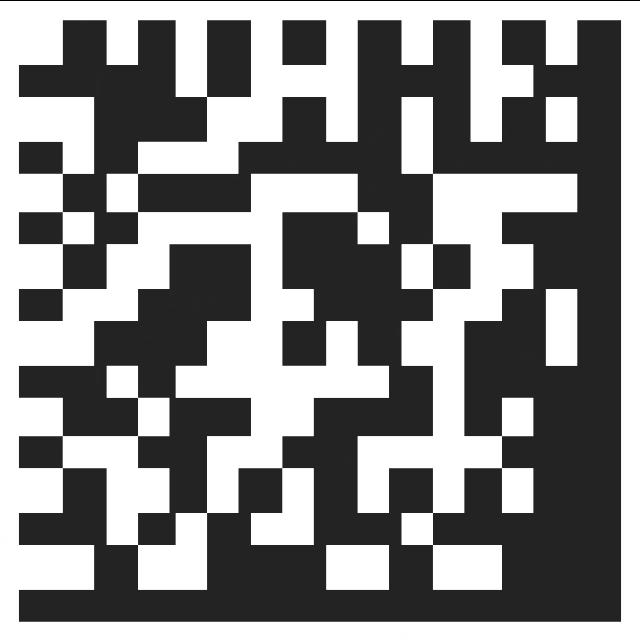DataMatrix: (6, 6, 628, 634)
